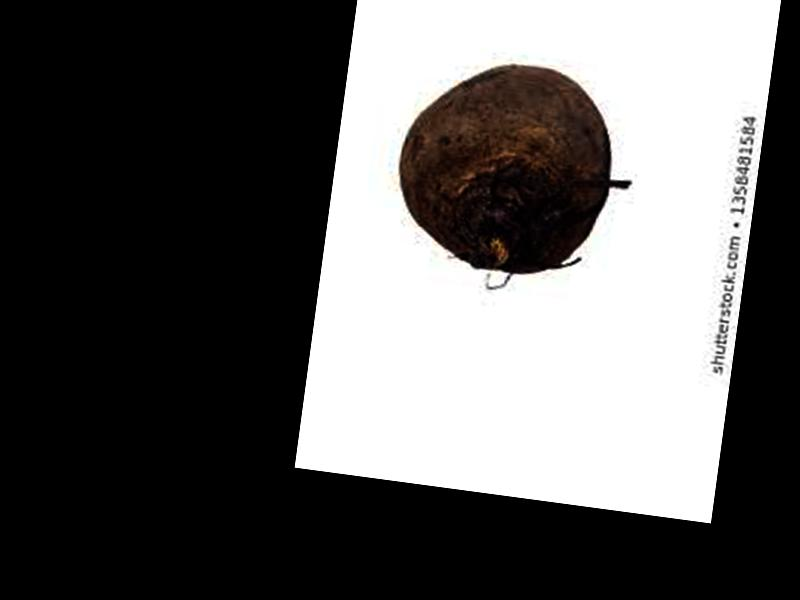Beet: (388, 48, 621, 281)
